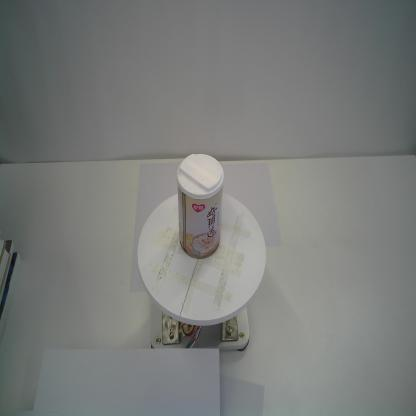Canned Food: (177, 153, 224, 258)
